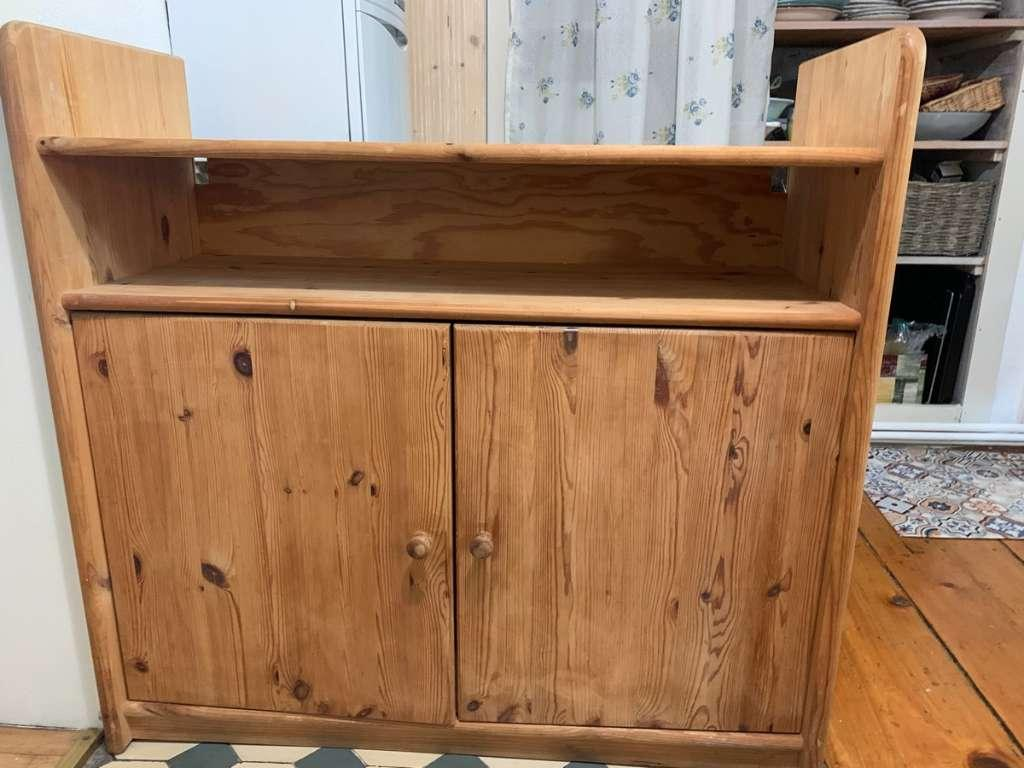cabinet_door: (463, 328, 829, 722), (95, 318, 448, 711)
handle: (408, 529, 436, 567), (469, 530, 495, 566)
